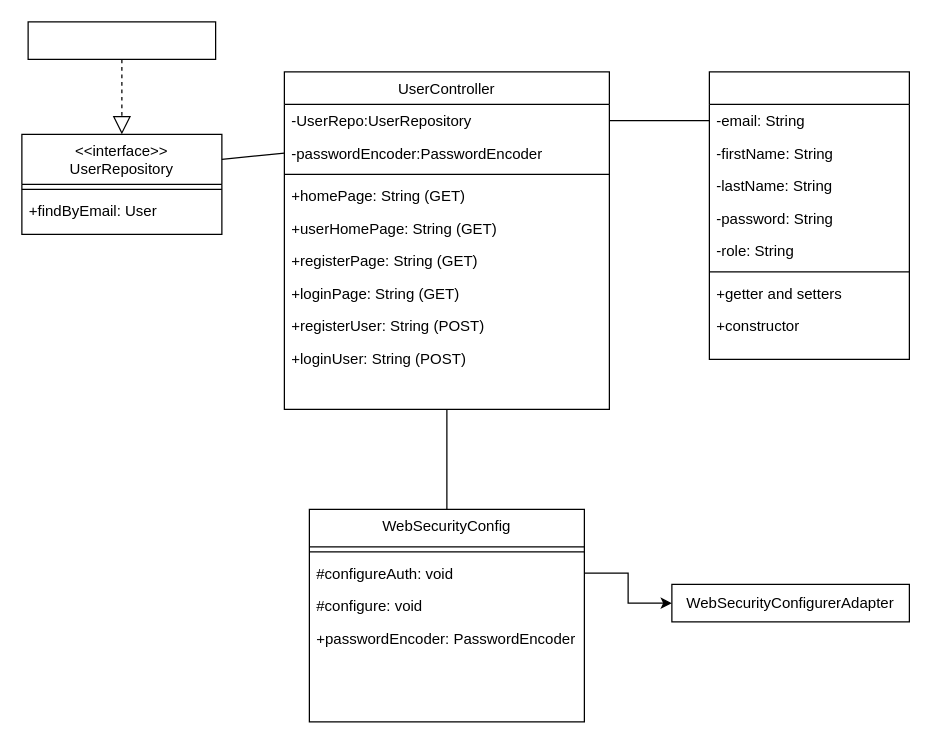
The diagram is 931 pixels wide and 744 high, and some of its shapes have lost their labels. The box of each missing label's shape, as (x1, y1, x2, y2) in pixels:
JpaRepository: (27, 21, 216, 59)
User: (708, 71, 909, 359)
